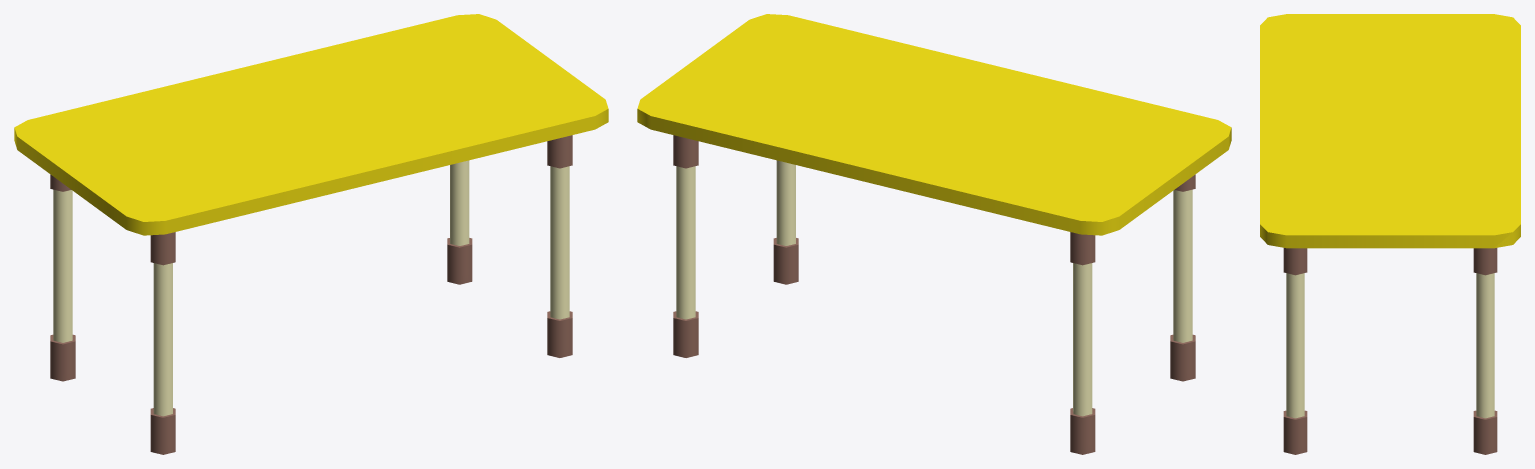
File: office_table_020.glb
3 renders of one model, left to right at view 1: azimuth 30°, elevation 25°; view 2: azimuth 150°, elevation 25°; view 3: azimuth 270°, elevation 25°, orthographic. The views are drawn at different scales.
Visible parts, largest first — view 1: office_table_020; view 2: office_table_020; view 3: office_table_020.
Part boxes in pixels (x1,y1,x2,y2): office_table_020: [14, 14, 608, 454]; office_table_020: [637, 14, 1231, 454]; office_table_020: [1260, 14, 1520, 454].
Bounding box in the file's own units: 1.06 × 0.5174 × 0.5256.
1 material, 1 textured.
